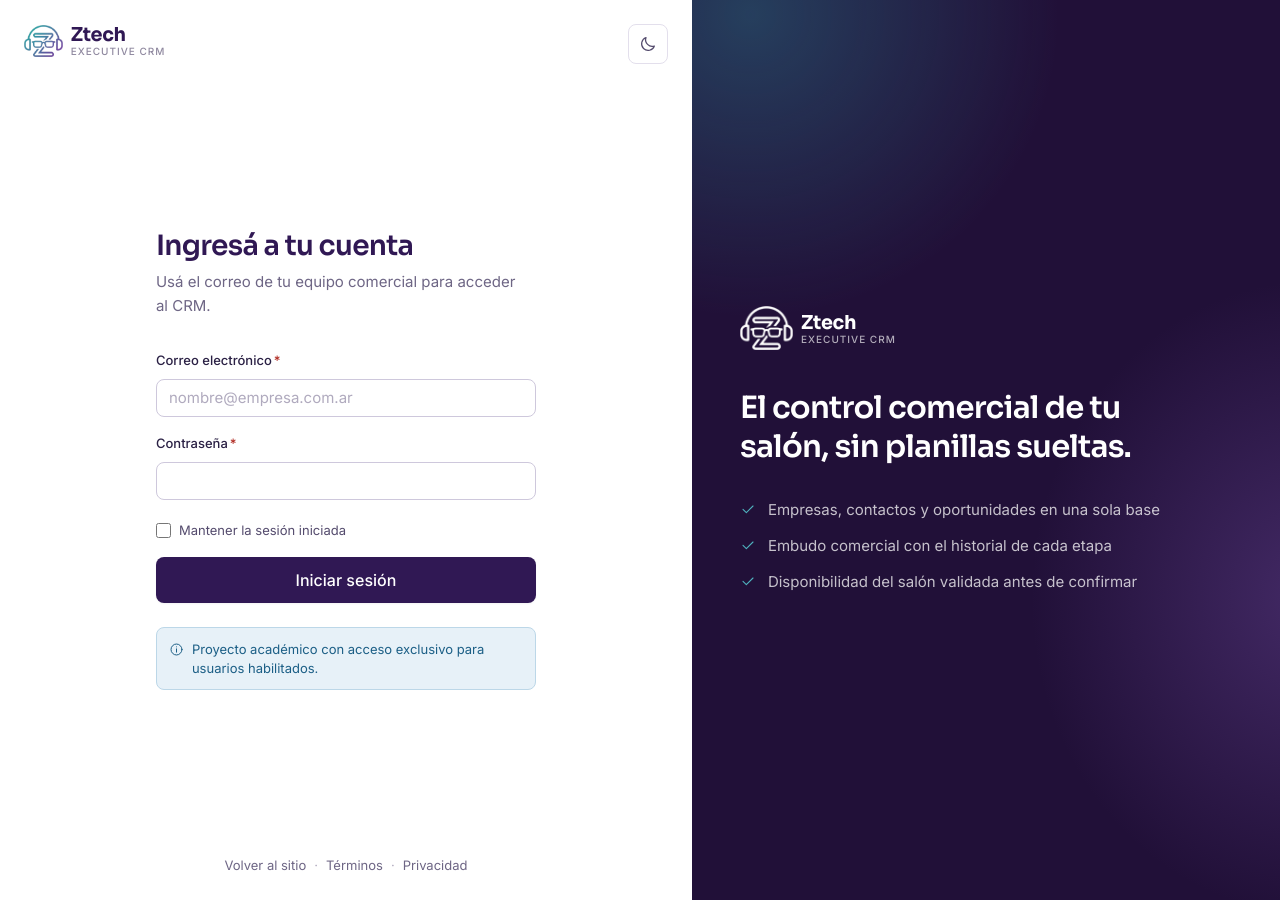
inicio de sesión › muestra el detalle RFC 7807 cuando las credenciales fallan
The image size is (1280, 900).
In the field labelled "Correo electrónico*": x=346, y=398 [156, 379, 536, 417], type "admin@ztech.local"
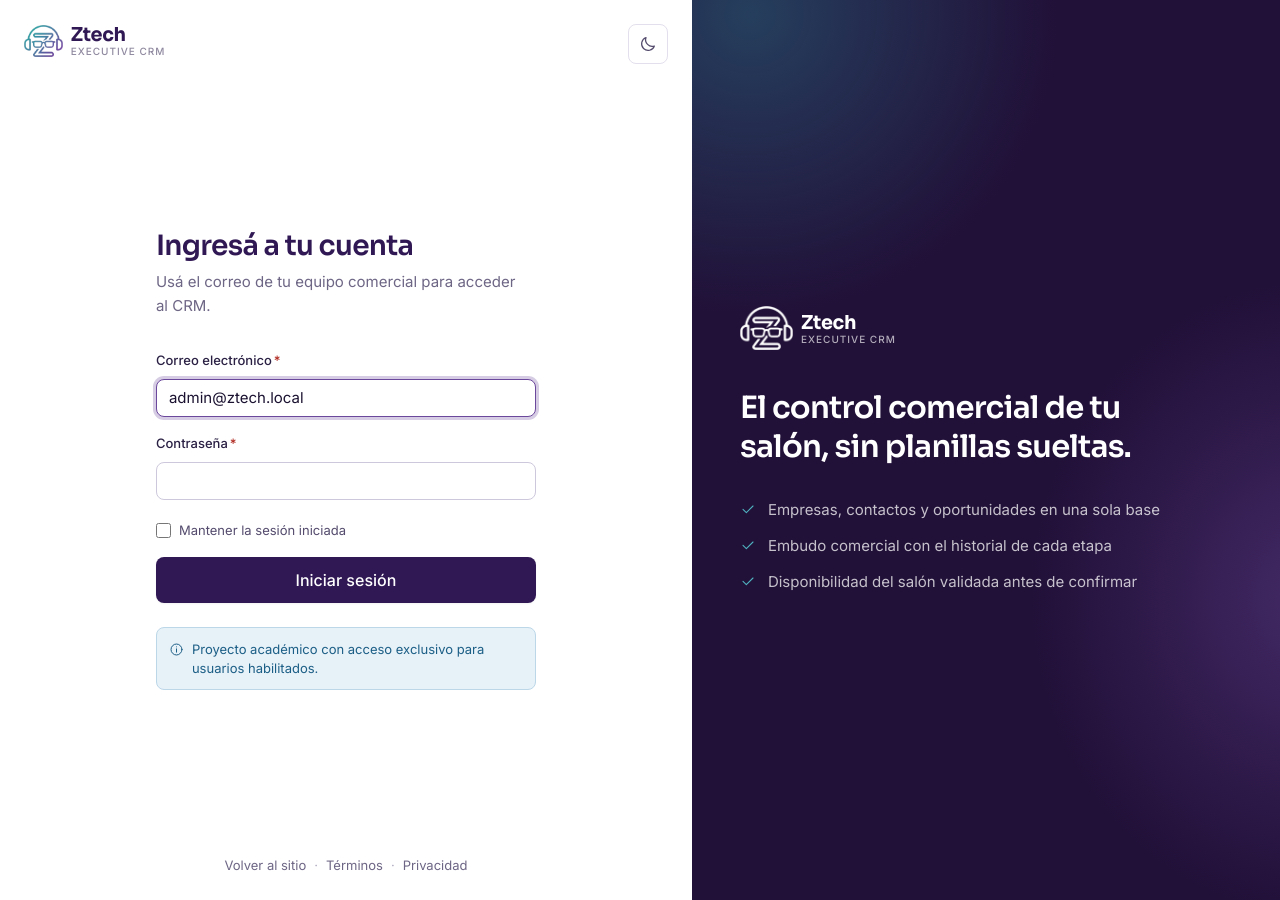
In the password field labelled "Contraseña*": x=346, y=481 [156, 462, 536, 500], type "incorrecta"
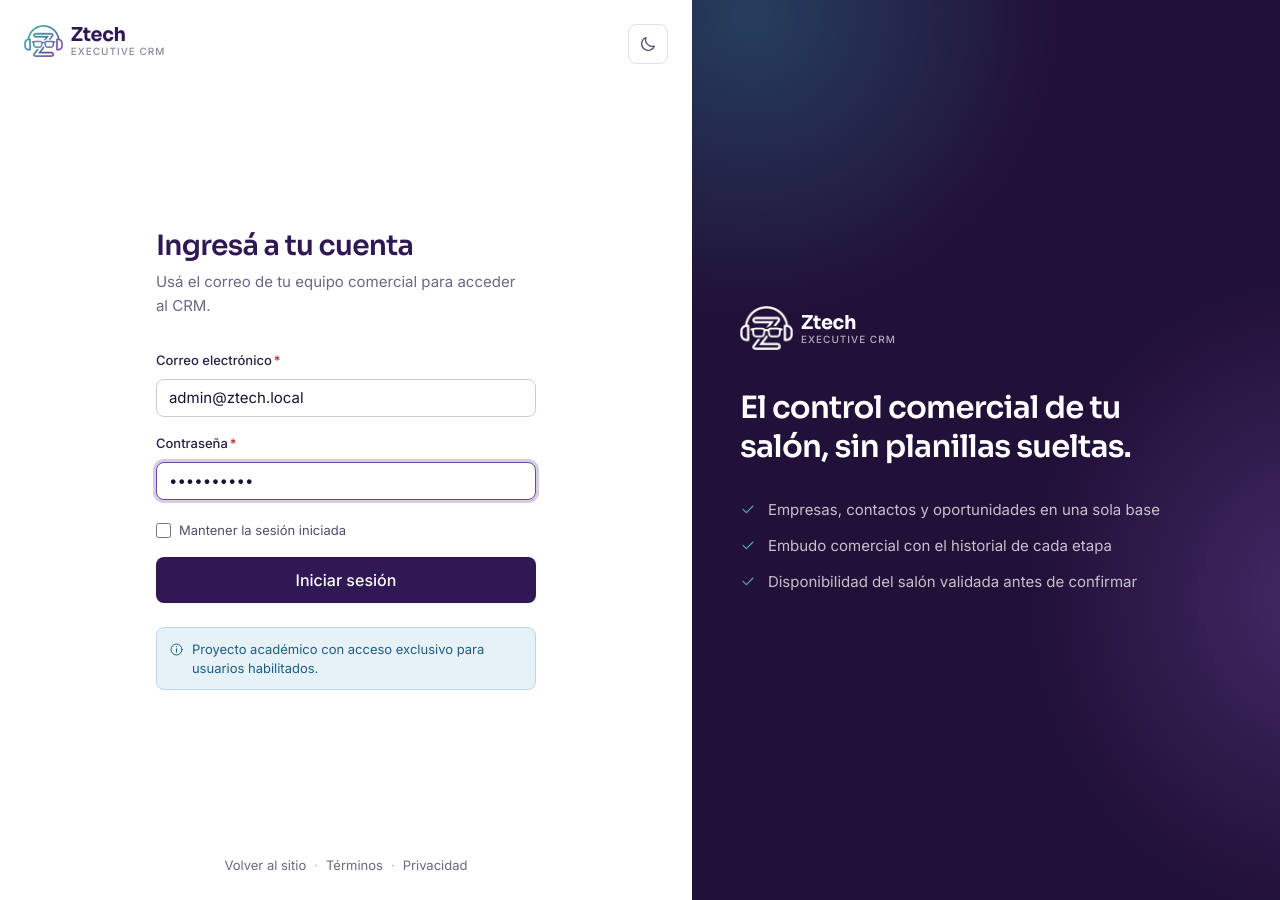
Click the button "Iniciar sesión": x=346, y=580 [156, 557, 536, 603]
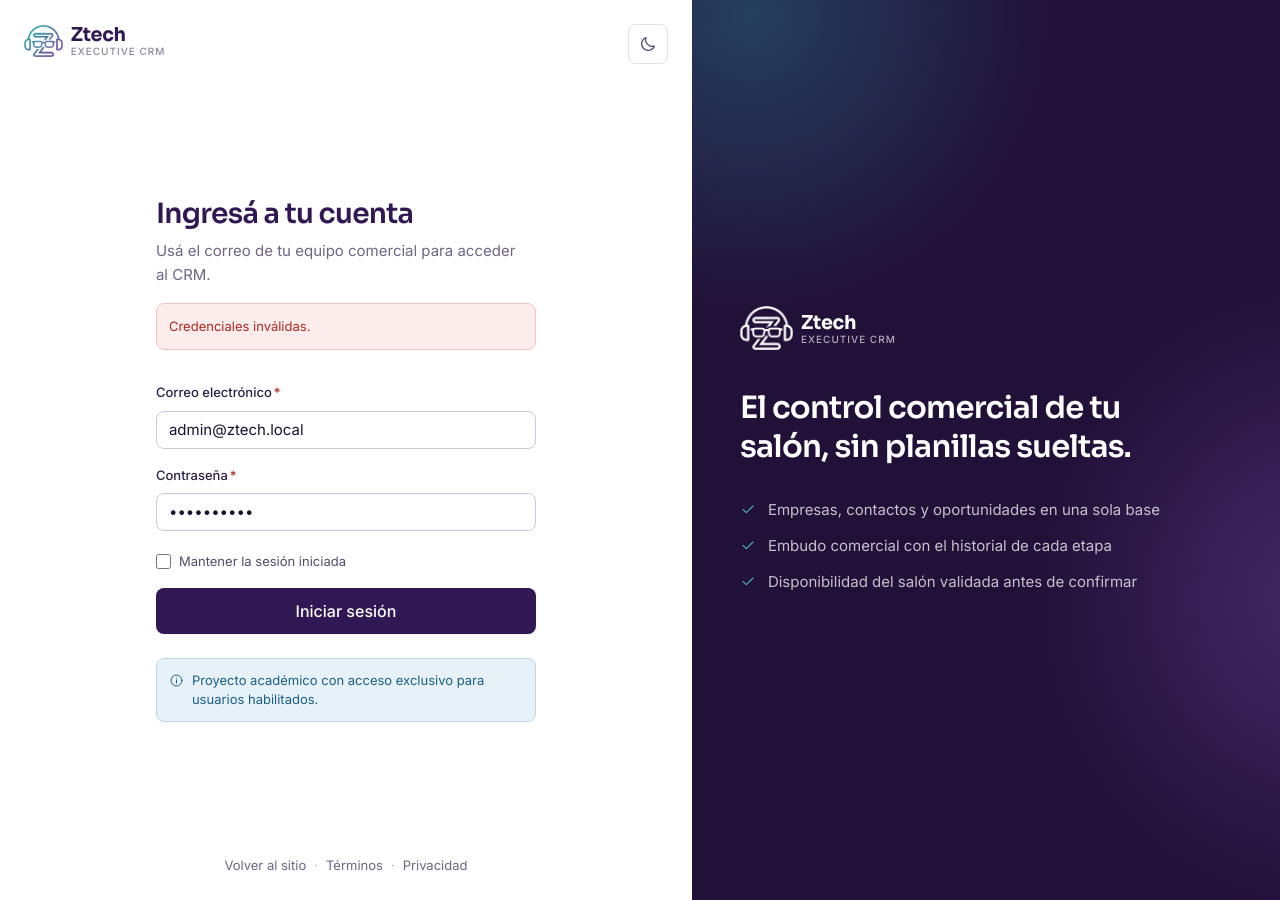
Expected: the message reads "Credenciales inválidas.", [169, 318, 310, 334]
